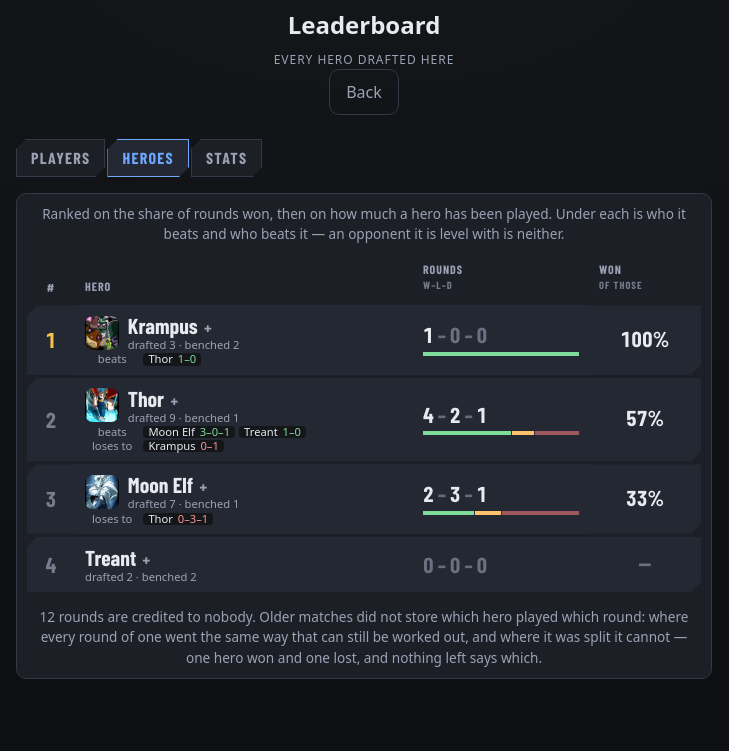
Test: opening a hero › says so when a hero’s games cannot be loaded
Click the button "Thor + drafted 9 · benched 1" at (102, 405), box [85,387,403,424]
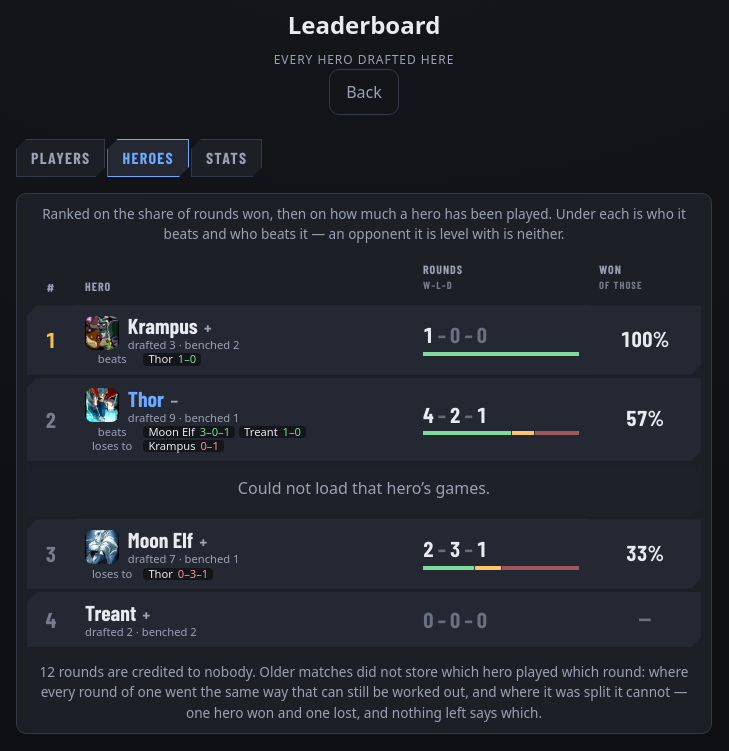
Result: the text "Could not load that hero’s games." is shown at [238,478,490,500]
